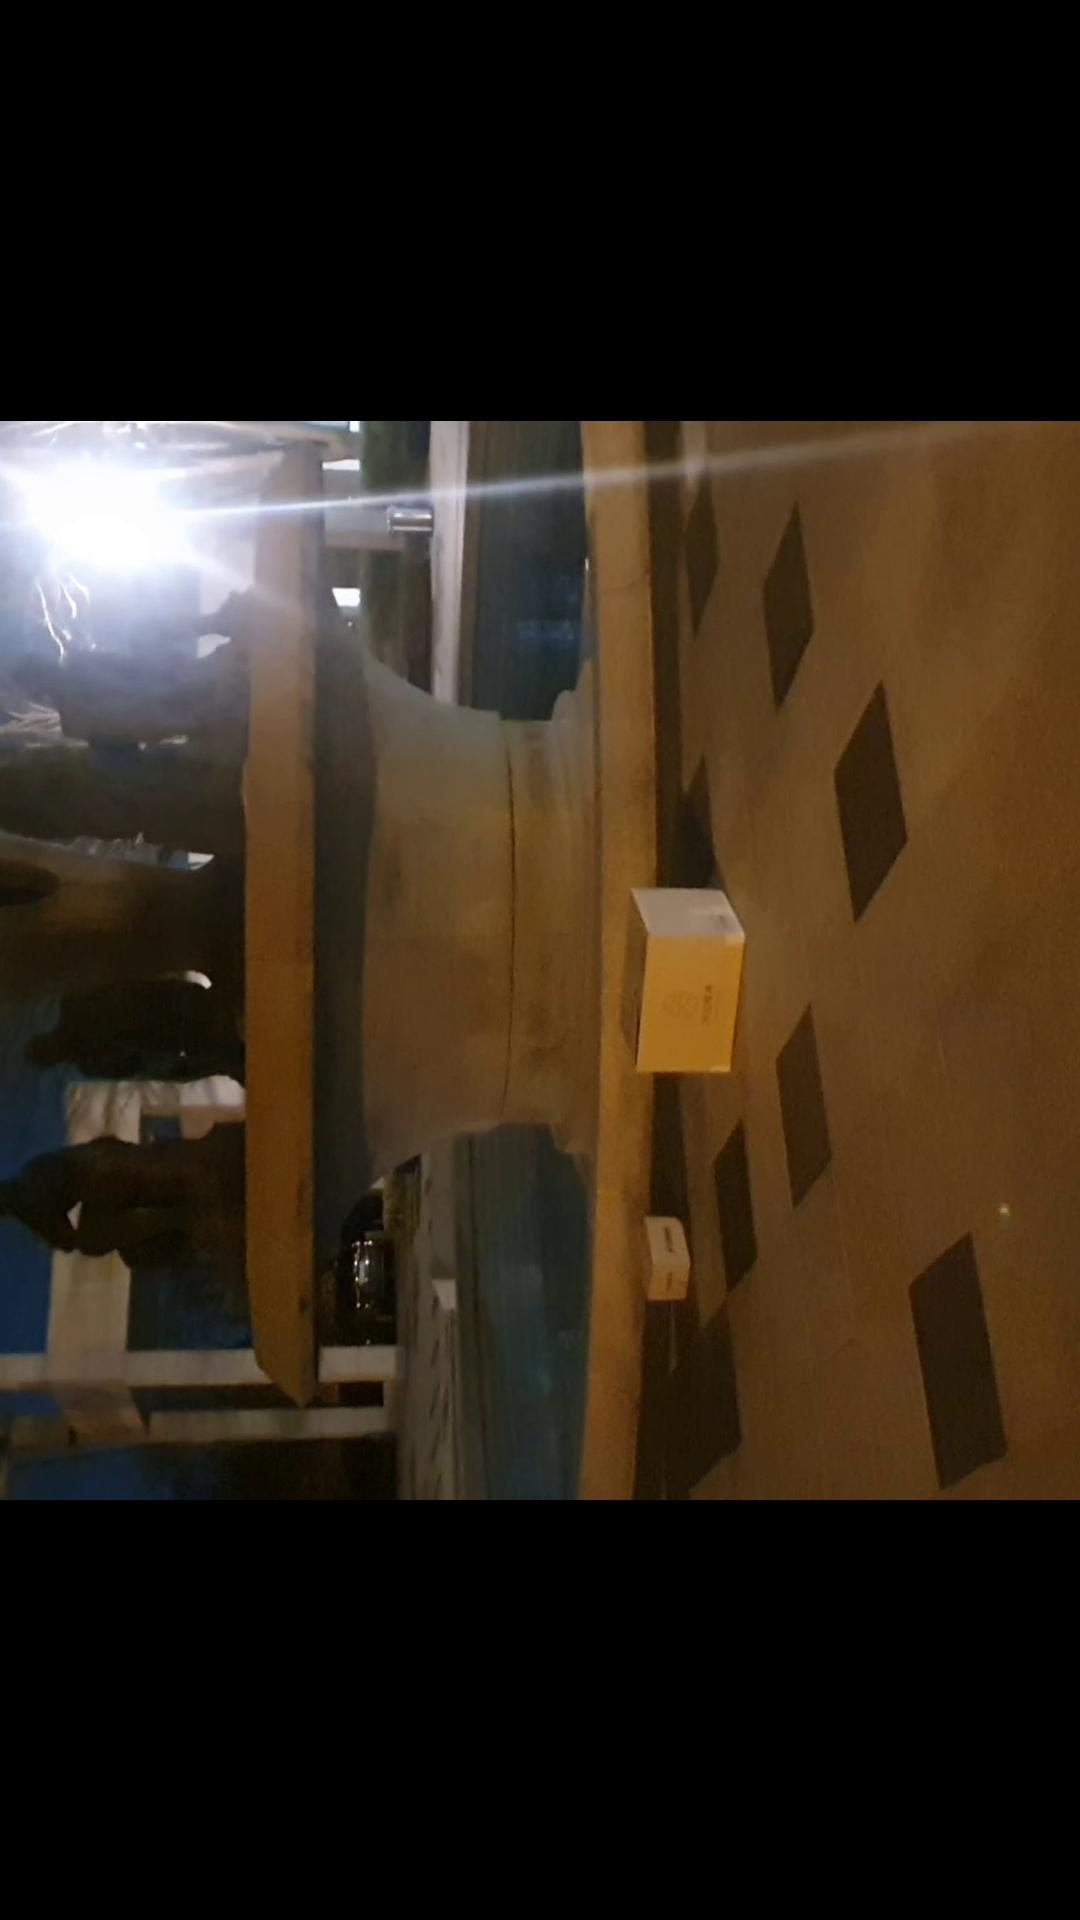Box: (605, 862, 756, 1095), (618, 1180, 703, 1342)
